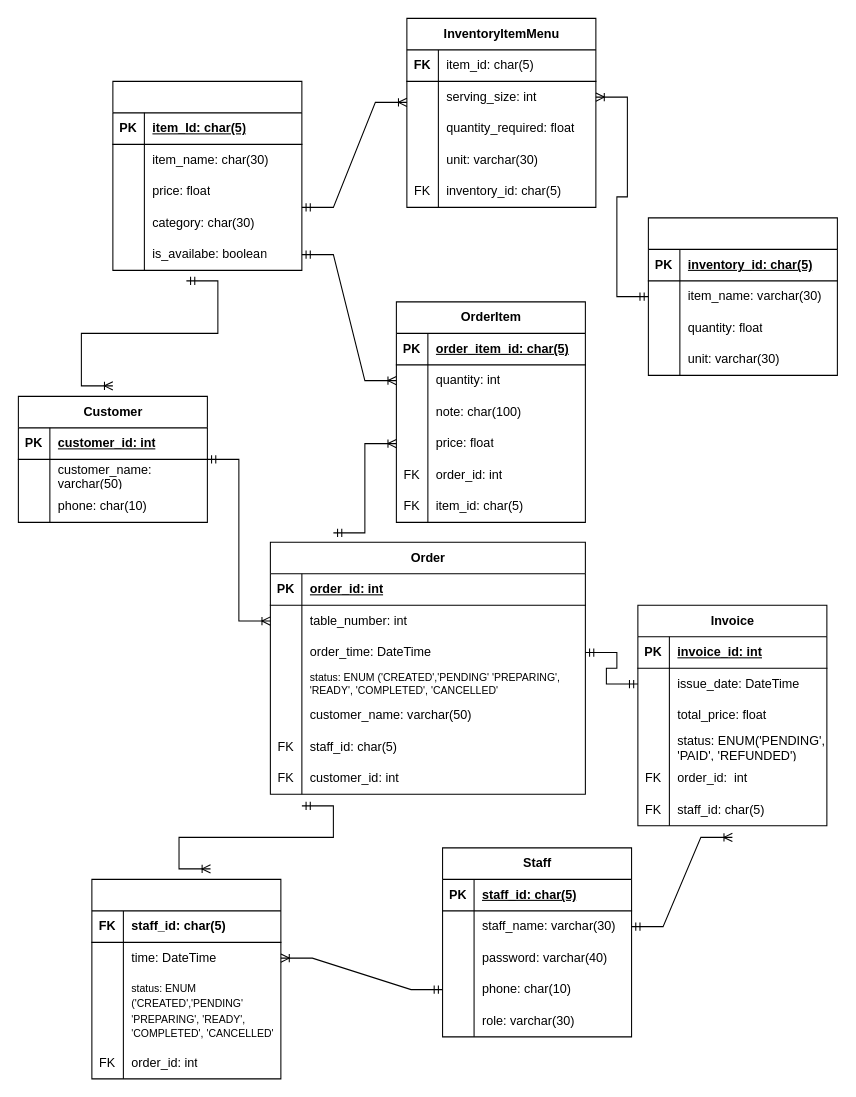
The diagram is 856 pixels wide and 1097 high, and some of its shapes have lost their labels. The box of each missing label's shape, as (x1, y1, x2, y2) in pixels:
InventoryItem: (647, 217, 837, 375)
MenuItem: (112, 80, 302, 270)
StaffOrder: (91, 878, 281, 1079)
